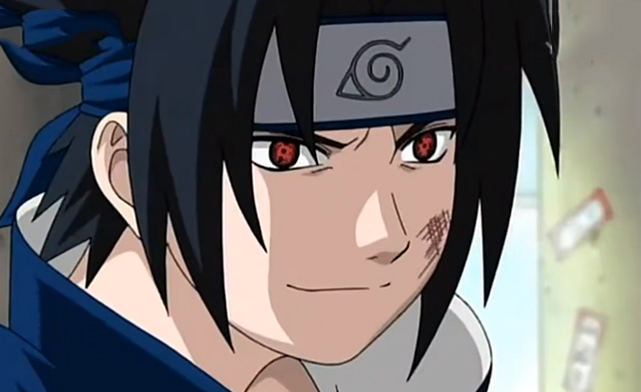sasuke: (88, 5, 458, 371)
